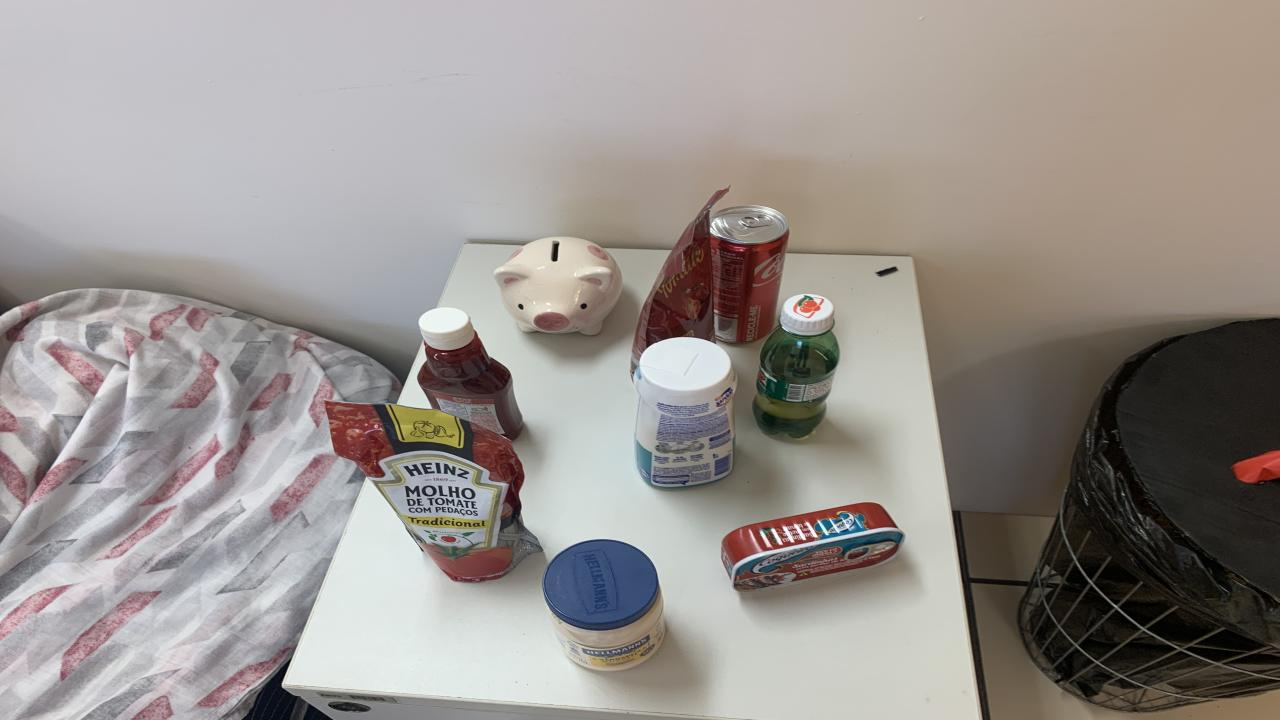Cleaner-Cleanup_Items: (635, 338, 738, 489)
Coke-Drinks: (710, 204, 790, 343)
Guarana-Drinks: (752, 292, 840, 439)
Ketchup-Pantry_Items: (418, 308, 522, 439)
Mayonnaise-Pantry_Items: (542, 540, 665, 671)
Pig_Safe-Miscellaneous: (492, 236, 622, 336)
Tomato_Sauce-Pantry_Items: (325, 401, 542, 581), (630, 188, 730, 373)
Tuna_Can-Pantry_Items: (722, 502, 905, 591)
